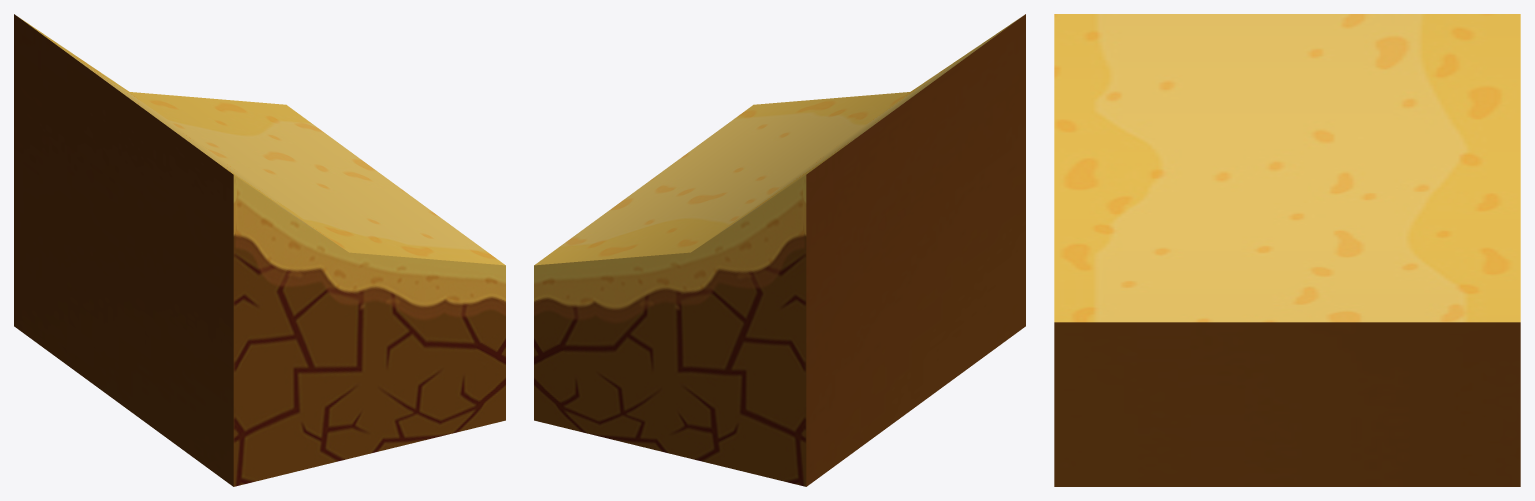
The model's file is Desert_R_5.fbx.
3 views of the same model, side by side, from view 1: azimuth 30°, elevation 25°; view 2: azimuth 150°, elevation 25°; view 3: azimuth 270°, elevation 25° (orthographic). The views are drawn at different scales.
Visible parts, largest first — view 1: Desert_R_5; view 2: Desert_R_5; view 3: Desert_R_5.
Part boxes in pixels (<box>): Desert_R_5: <box>14,14,505,486</box>; Desert_R_5: <box>534,14,1025,486</box>; Desert_R_5: <box>1054,14,1520,486</box>.
Bounding box in the file's own units: 3.05 × 3.34 × 4.26.
Materials: 1 (1 with a texture image).
